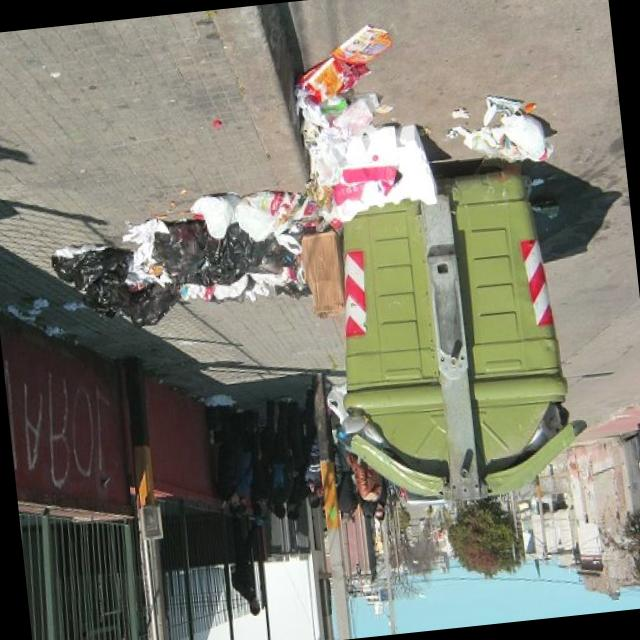high trash: (51, 25, 437, 326)
less trash: (446, 95, 555, 162)
